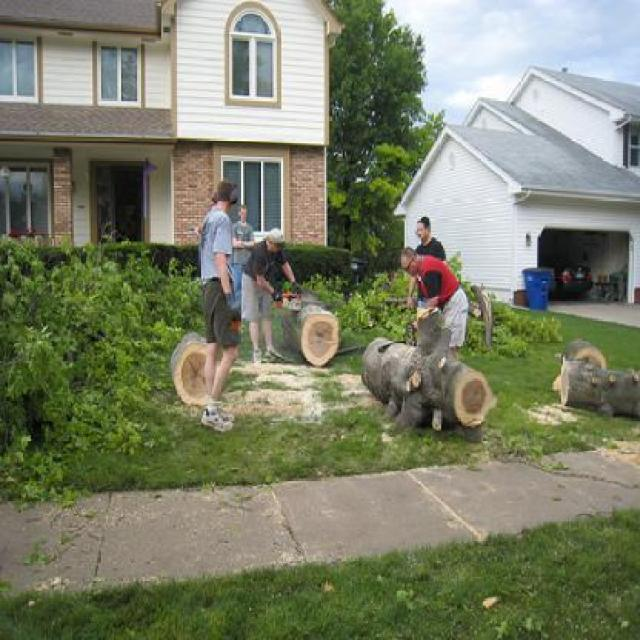Chainsaw: (374, 326, 428, 354), (269, 288, 306, 314)
